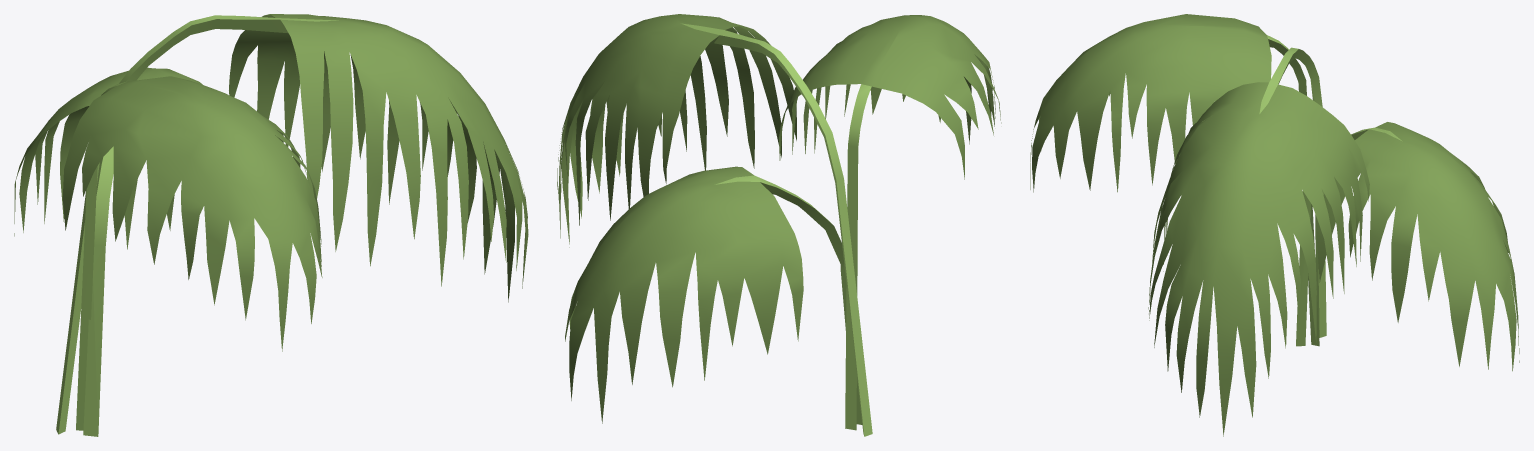
Rendered from plant_willow_A.fbx.
The picture shows the model from 3 angles, left to right: view 1: azimuth 30°, elevation 25°; view 2: azimuth 150°, elevation 25°; view 3: azimuth 270°, elevation 25°; orthographic projection. The views are drawn at different scales.
Visible parts, largest first — view 1: plant_willow_leaf_A, plant_willow_leaf_C, plant_willow_leaf_B; view 2: plant_willow_leaf_B, plant_willow_leaf_A, plant_willow_leaf_C; view 3: plant_willow_leaf_A, plant_willow_leaf_B, plant_willow_leaf_C.
Boxes of the visible parts, <box> form: plant_willow_leaf_A: <box>56,14,528,434</box>; plant_willow_leaf_C: <box>62,76,322,430</box>; plant_willow_leaf_B: <box>14,67,202,436</box>; plant_willow_leaf_B: <box>565,166,862,424</box>; plant_willow_leaf_A: <box>557,14,872,436</box>; plant_willow_leaf_C: <box>779,15,1001,430</box>; plant_willow_leaf_A: <box>1148,47,1369,436</box>; plant_willow_leaf_B: <box>1296,122,1519,371</box>; plant_willow_leaf_C: <box>1030,14,1319,346</box>.
Size of the model in its own units: 176 by 147 by 192.
